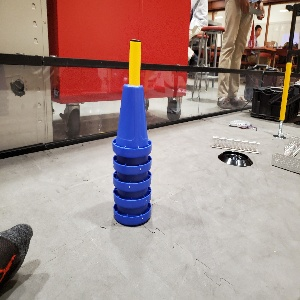Blue_5: (111, 81, 151, 225)
